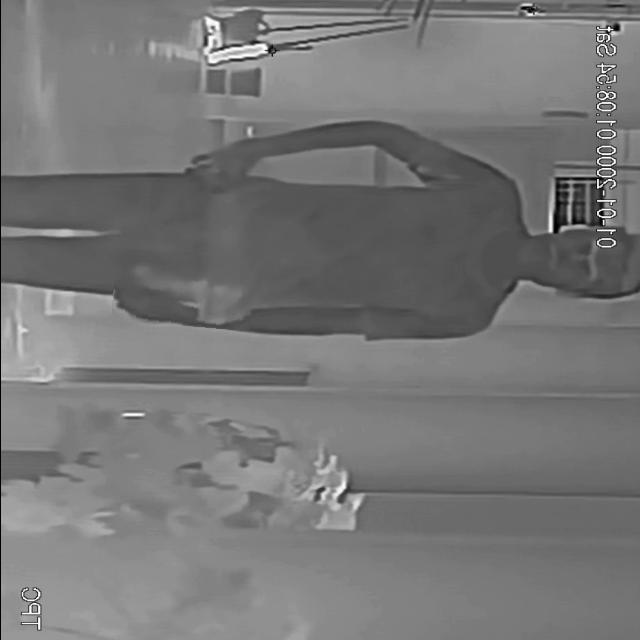Weapon: (112, 250, 254, 328)
